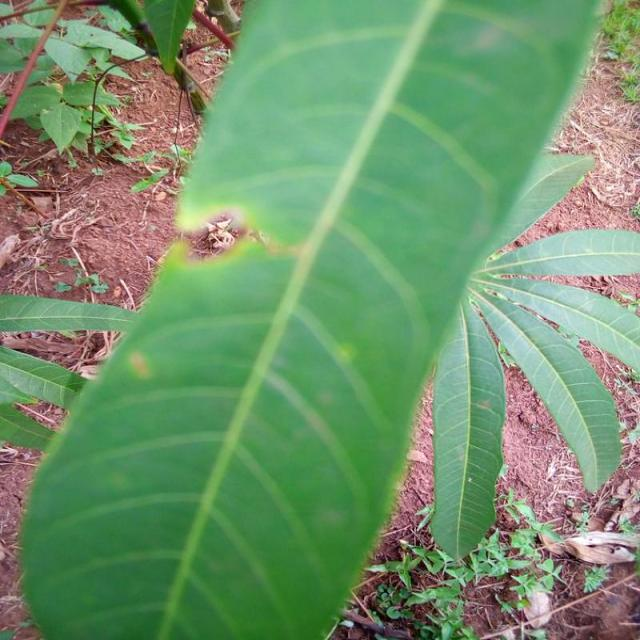cassava leaf: (15, 0, 612, 638)
